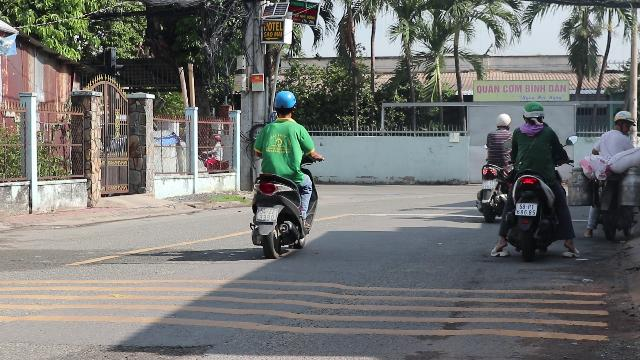helmet: (272, 89, 296, 118), (521, 100, 545, 124), (613, 110, 635, 132), (494, 113, 510, 129)
licenseplate: (256, 207, 276, 221), (516, 202, 536, 216), (482, 179, 494, 188)
motorcyclist: (243, 89, 320, 257), (499, 100, 575, 260), (586, 109, 638, 240), (475, 112, 513, 221)
